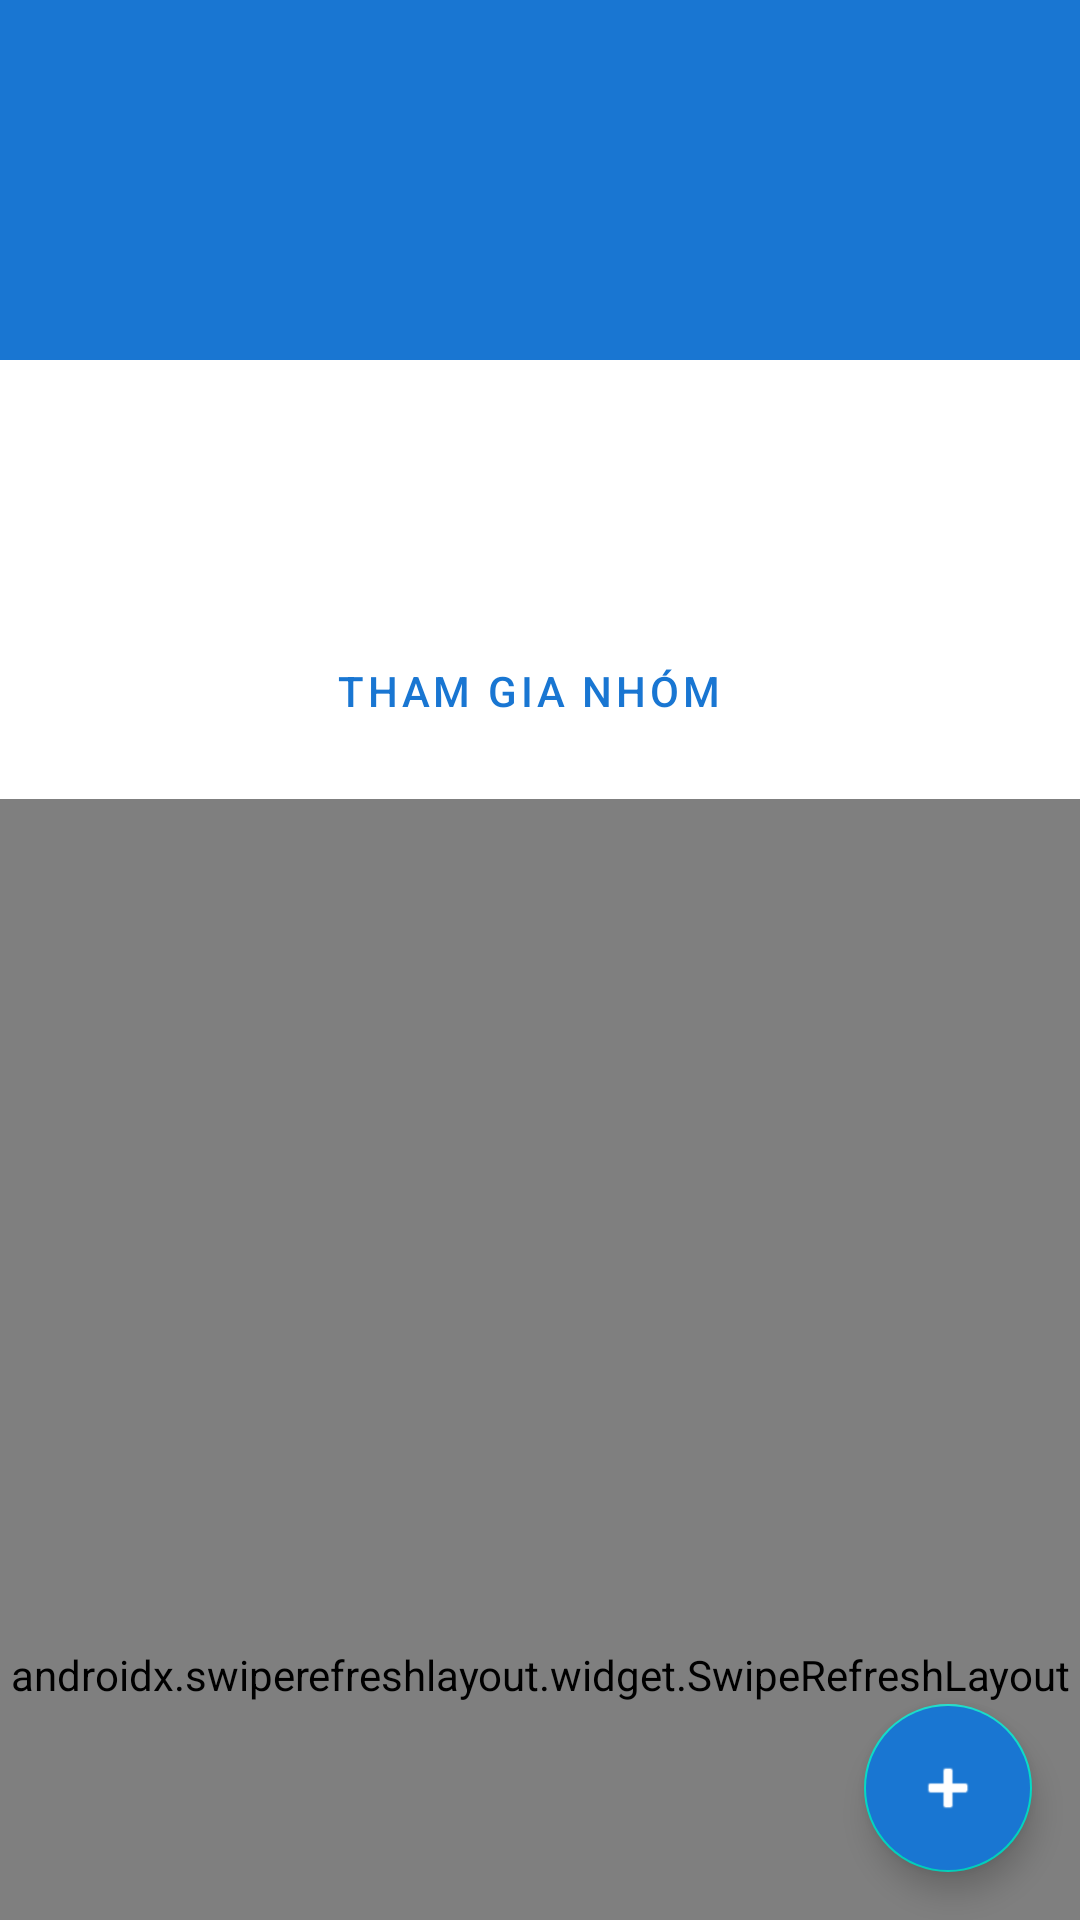

Icon click points for this 1080w x 1920h phone screenshot, format (x,y):
Đăng bài: (948,1788)
